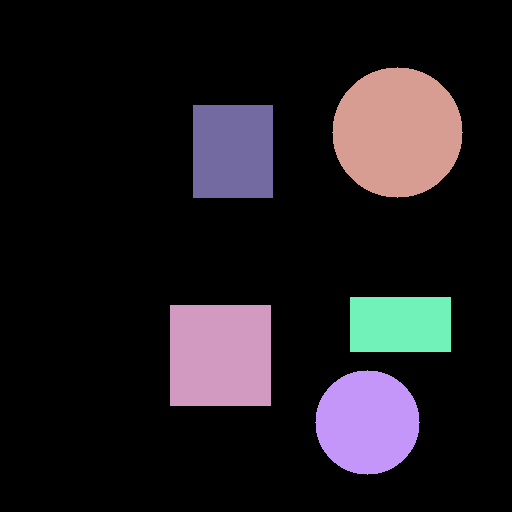circle: (332, 67, 462, 197), (315, 370, 419, 474)
rectangle: (193, 105, 272, 197), (350, 297, 450, 351)
square: (170, 305, 270, 405)
